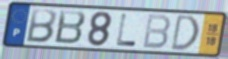8: (87, 10, 113, 48)
B: (53, 9, 88, 46), (24, 8, 58, 45), (141, 13, 172, 51)
D: (169, 13, 201, 52)
L: (115, 13, 138, 48)
